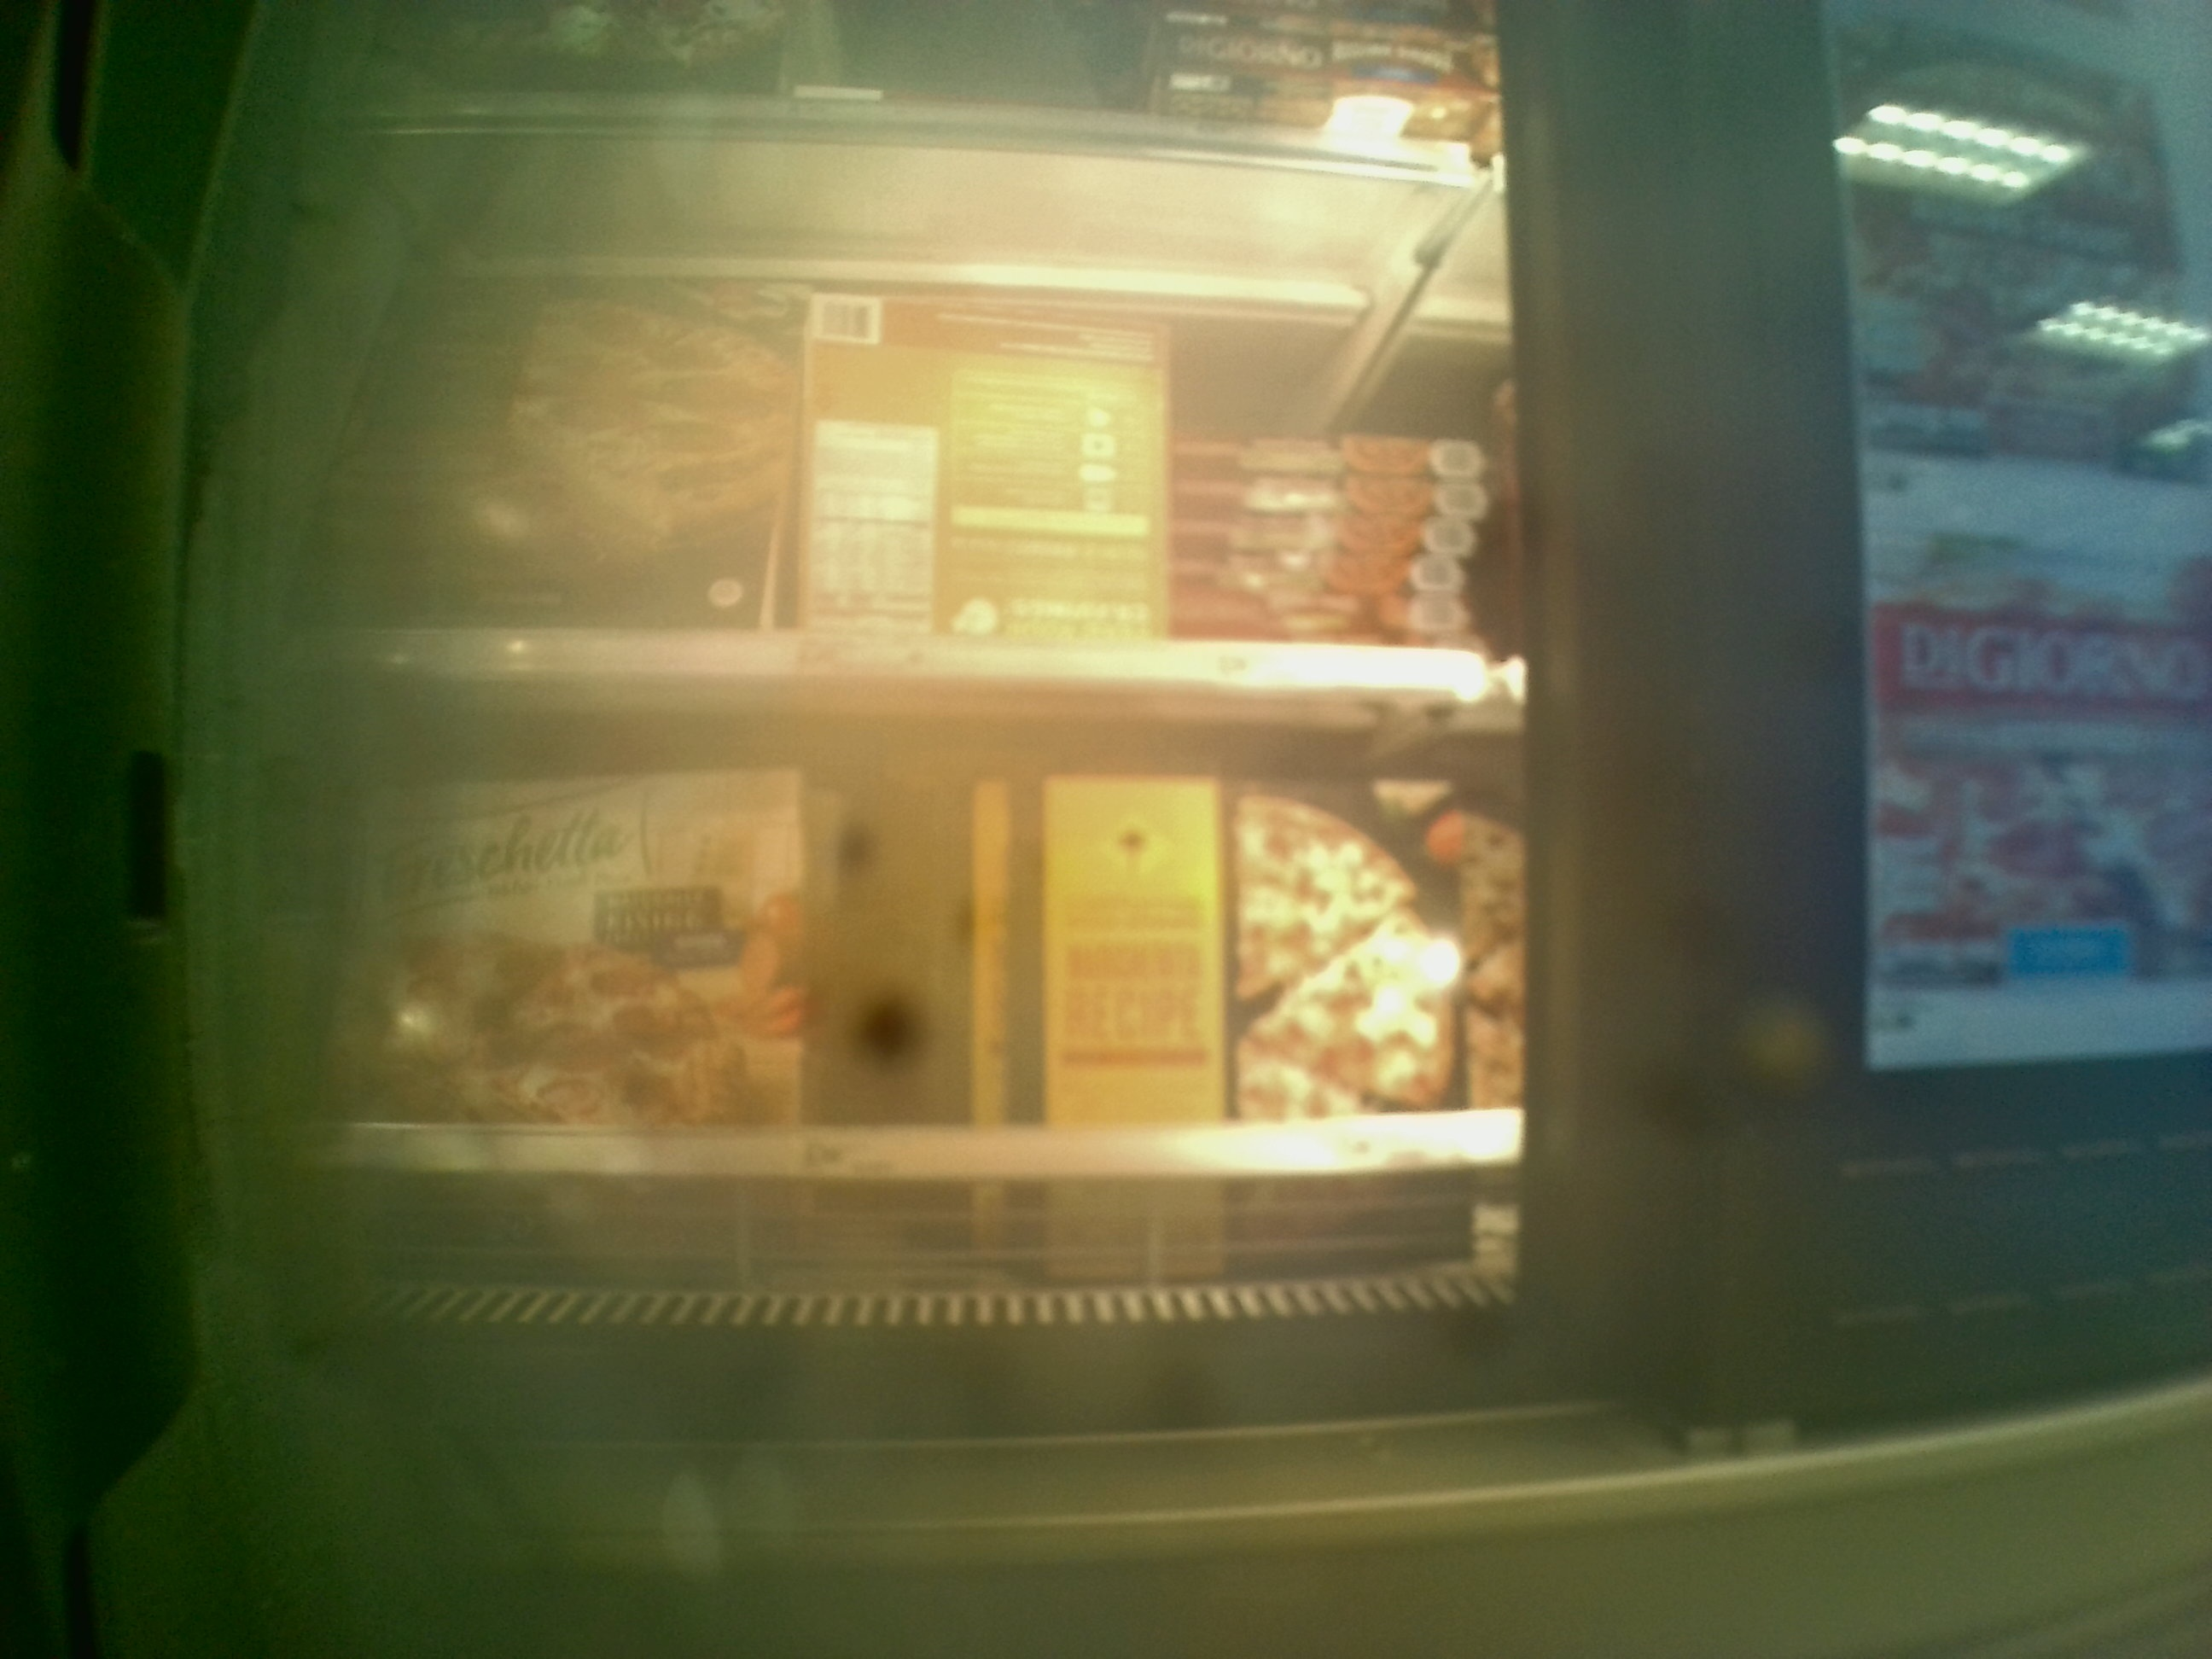pizza: (1038, 769, 1512, 1119), (336, 788, 806, 1131), (336, 270, 789, 612), (796, 300, 1165, 638), (1176, 19, 1479, 78), (1183, 512, 1467, 561), (1183, 432, 1491, 476), (1165, 592, 1500, 624), (1174, 561, 1484, 584), (1184, 622, 1507, 643), (1197, 486, 1467, 507)
